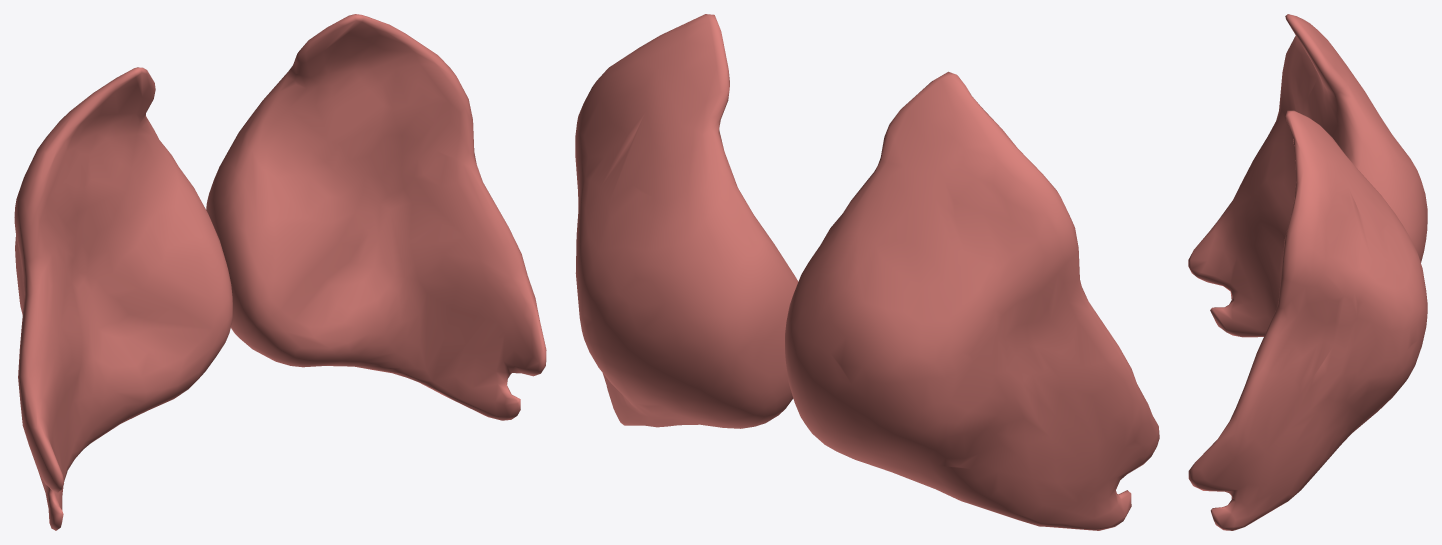
File: glutes.glb
The picture shows the model from 3 angles, left to right: view 1: azimuth 30°, elevation 25°; view 2: azimuth 150°, elevation 25°; view 3: azimuth 270°, elevation 25°; orthographic projection. The views are drawn at different scales.
Visible parts, largest first — view 1: glutes__selectable; view 2: glutes__selectable; view 3: glutes__selectable.
Part boxes in pixels (x1,y1,x2,y2): glutes__selectable: (14, 14, 546, 530); glutes__selectable: (575, 14, 1159, 530); glutes__selectable: (1188, 14, 1427, 530).
Size of the model in its own units: 2.82 by 2.18 by 1.28.
